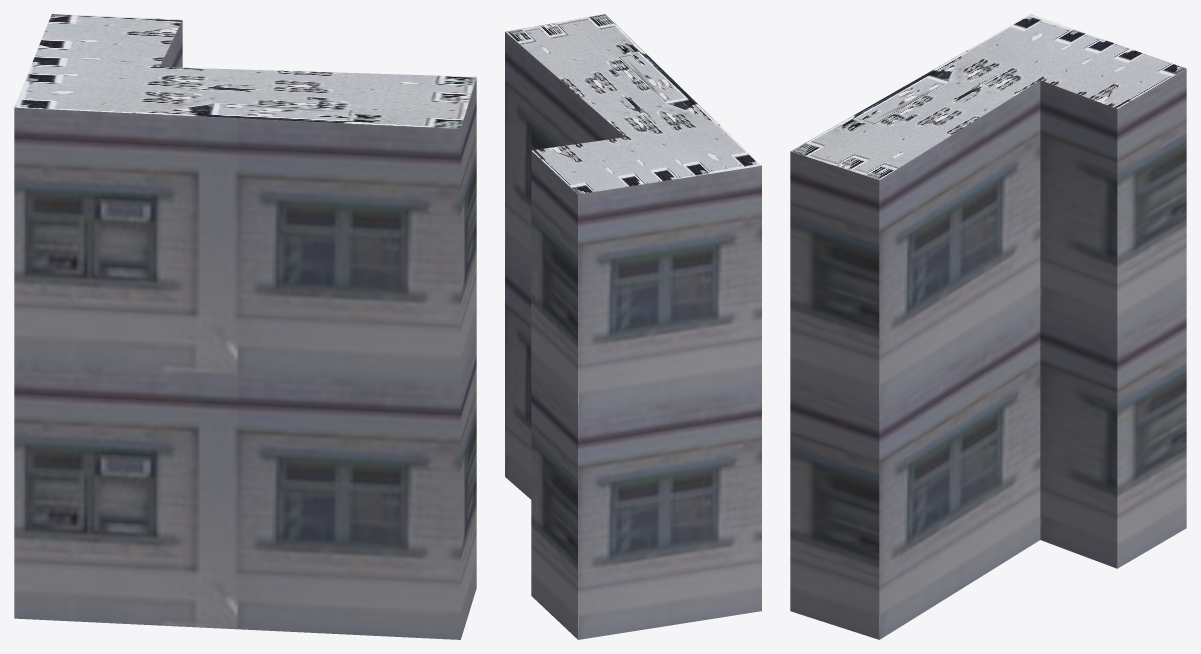
File: ResTex__4501.fbx
The picture shows the model from 3 angles, left to right: view 1: azimuth 30°, elevation 25°; view 2: azimuth 150°, elevation 25°; view 3: azimuth 270°, elevation 25°; orthographic projection. The views are drawn at different scales.
Visible parts, largest first — view 1: CityEngineMaterial_1_m, CityEngineMaterial_8_m; view 2: CityEngineMaterial_1_m, CityEngineMaterial_8_m; view 3: CityEngineMaterial_1_m, CityEngineMaterial_8_m.
Boxes of the visible parts, bbox=[...] form: CityEngineMaterial_1_m: bbox=[14, 20, 476, 639]; CityEngineMaterial_8_m: bbox=[14, 14, 476, 128]; CityEngineMaterial_1_m: bbox=[505, 32, 761, 639]; CityEngineMaterial_8_m: bbox=[505, 14, 761, 194]; CityEngineMaterial_1_m: bbox=[790, 68, 1186, 639]; CityEngineMaterial_8_m: bbox=[791, 14, 1186, 179].
Bounding box in the file's own units: 4.65 × 6 × 4.69.
Materials: 2 (2 with a texture image).
